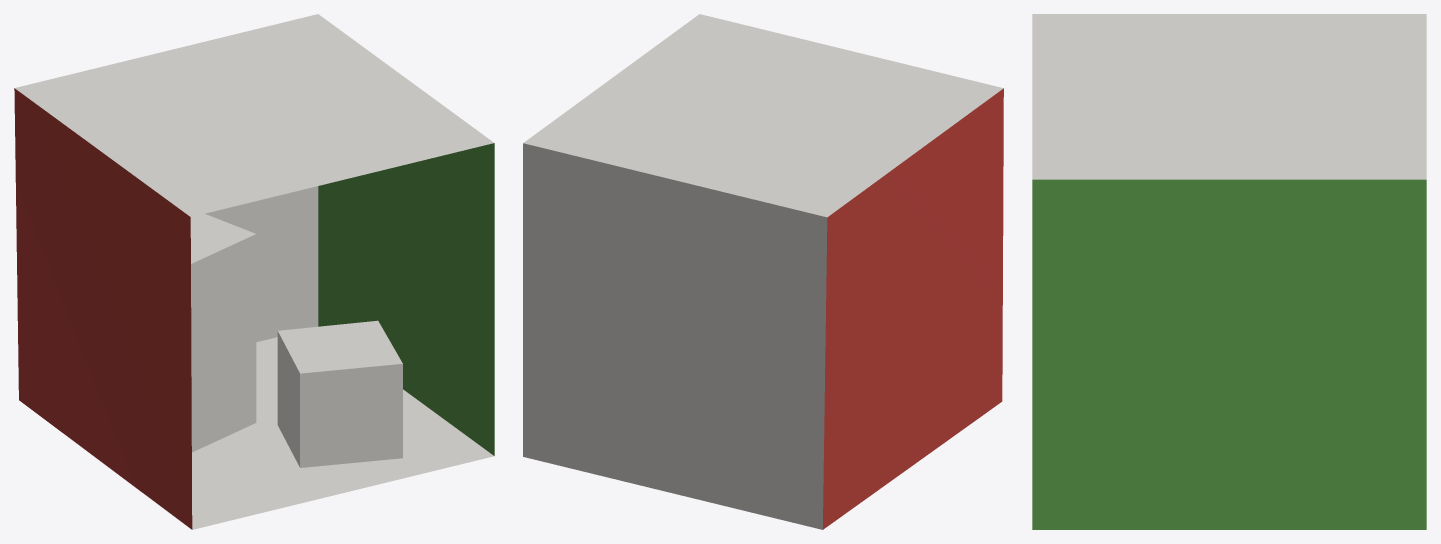
Rendered from cornell-box.gltf.
3 views of the same model, side by side, from view 1: azimuth 30°, elevation 25°; view 2: azimuth 150°, elevation 25°; view 3: azimuth 270°, elevation 25° (orthographic). The views are drawn at different scales.
Visible parts, largest first — view 1: Object_5, Object_3, Object_7, Object_4, Object_8, Object_9, Object_2; view 2: Object_2, Object_5, Object_3; view 3: Object_7, Object_3.
Part boxes in pixels (bbox=[...]): Object_5: bbox=[14, 88, 192, 529]; Object_3: bbox=[15, 14, 493, 216]; Object_7: bbox=[318, 143, 494, 455]; Object_4: bbox=[192, 337, 493, 529]; Object_8: bbox=[277, 320, 402, 467]; Object_9: bbox=[190, 213, 256, 452]; Object_2: bbox=[205, 186, 318, 342]; Object_2: bbox=[523, 143, 827, 529]; Object_5: bbox=[823, 88, 1003, 529]; Object_3: bbox=[523, 14, 1003, 217]; Object_7: bbox=[1032, 179, 1426, 529]; Object_3: bbox=[1032, 14, 1426, 179].
Size of the model in its own units: 2.02 by 1.99 by 2.03.
